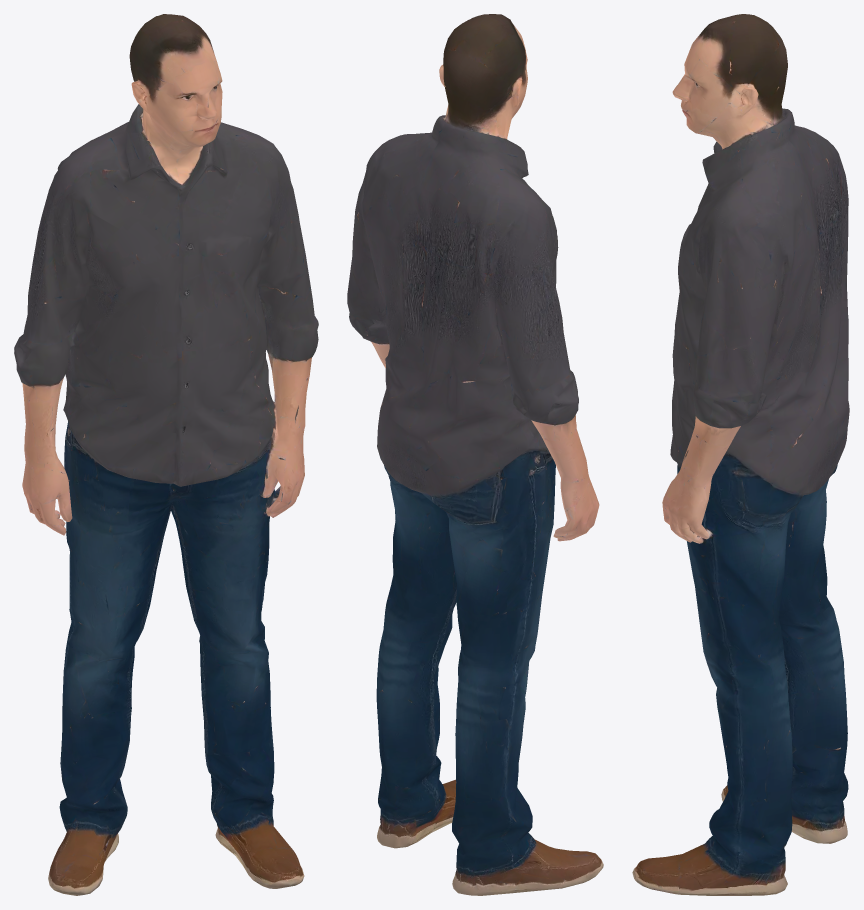
File: casual-portrait-4.glb
The picture shows the model from 3 angles, left to right: view 1: azimuth 30°, elevation 25°; view 2: azimuth 150°, elevation 25°; view 3: azimuth 270°, elevation 25°; orthographic projection. The views are drawn at different scales.
Visible parts, largest first — view 1: mesh_0; view 2: mesh_0; view 3: mesh_0.
Part boxes in pixels (<box>): mesh_0: <box>14,14,318,895</box>; mesh_0: <box>347,14,603,895</box>; mesh_0: <box>632,14,849,895</box>.
Size of the model in its own units: 55.1 by 170 by 40.11.
1 material, 1 textured.
